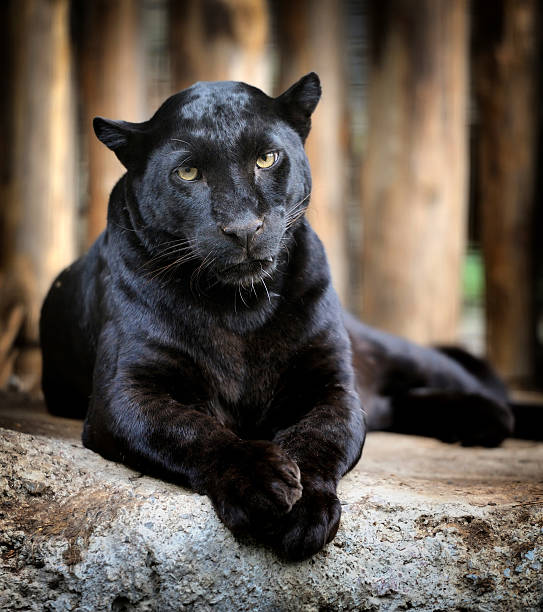panther: (56, 68, 356, 300)
